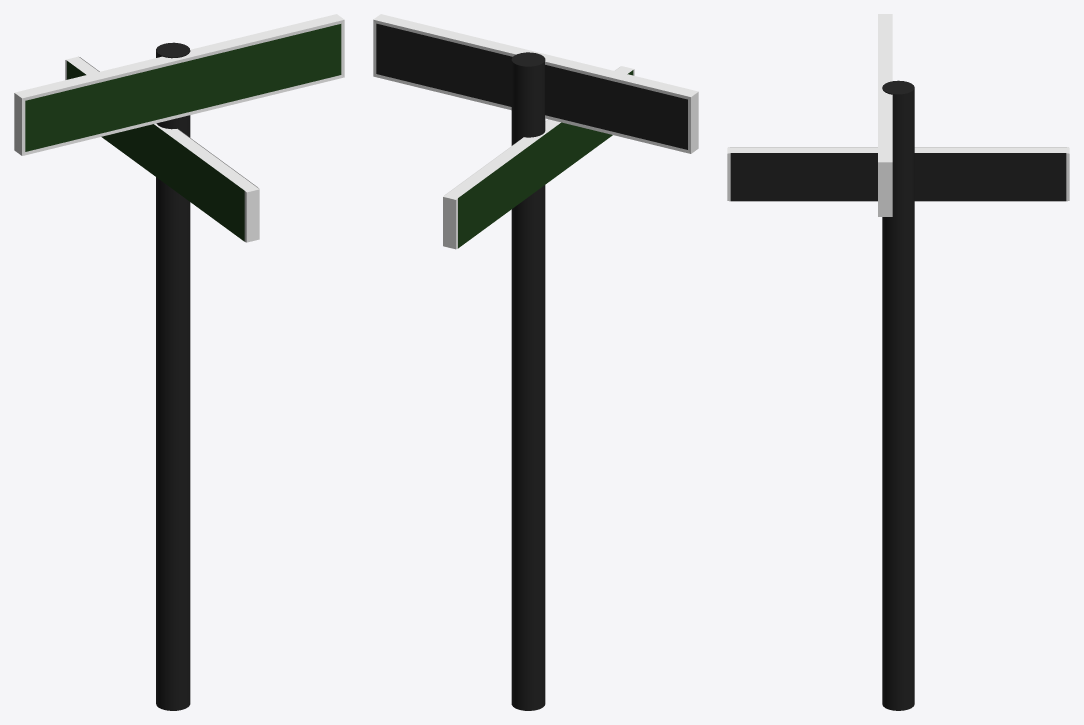
File: street_sign.obj
The picture shows the model from 3 angles, left to right: view 1: azimuth 30°, elevation 25°; view 2: azimuth 150°, elevation 25°; view 3: azimuth 270°, elevation 25°; orthographic projection. The views are drawn at different scales.
Parts seen in each view (by area): view 1: pCylinder2; view 2: pCylinder2; view 3: pCylinder2.
Part boxes in pixels (x1,y1,x2,y2): pCylinder2: [14, 14, 344, 710]; pCylinder2: [373, 14, 698, 710]; pCylinder2: [727, 14, 1069, 710].
Size of the model in its own units: 6.59 by 12.76 by 6.42.
